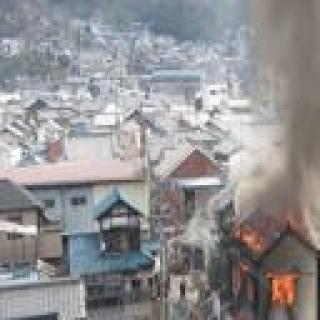fire: (224, 233, 308, 320)
